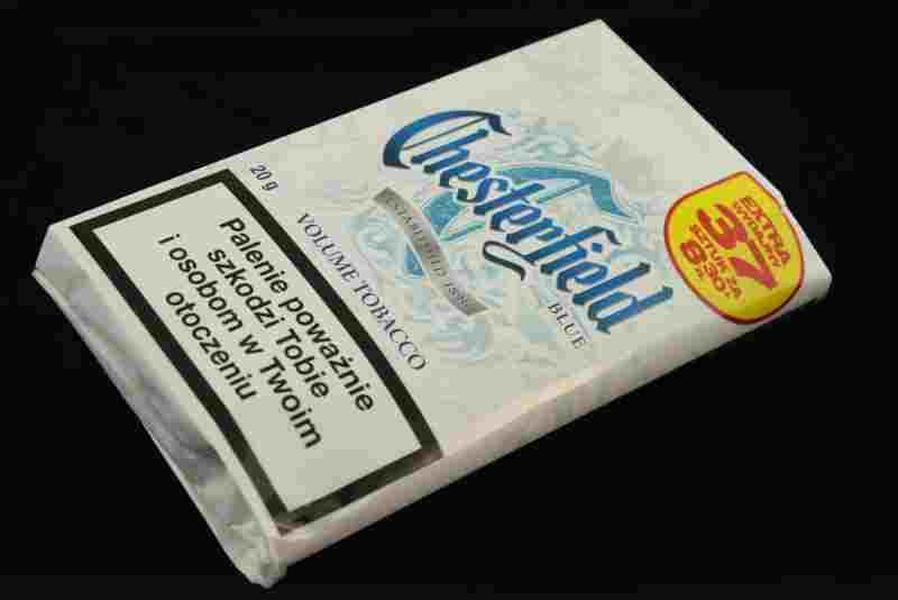chesterfield_blue: (81, 36, 781, 536)
